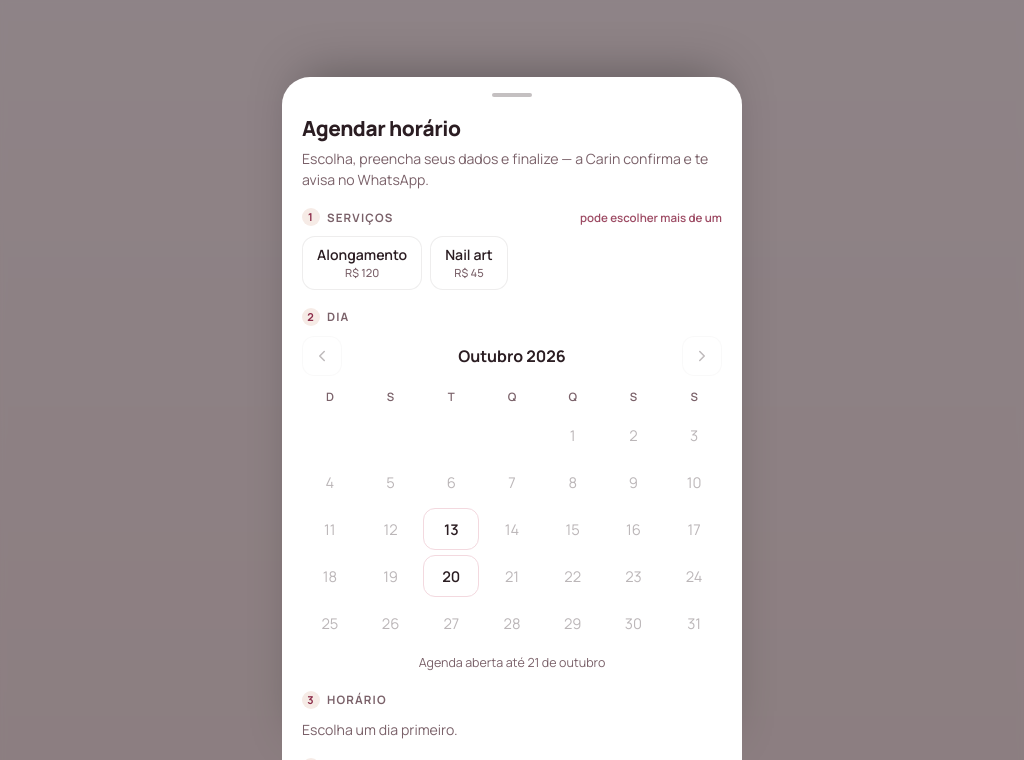
Test: Sheet do site: dias e horários oferecidos › horário ocupado ou bloqueado pela Carin não aparece para a cliente
Click the button "13" at (451, 529), box [423, 508, 479, 550]
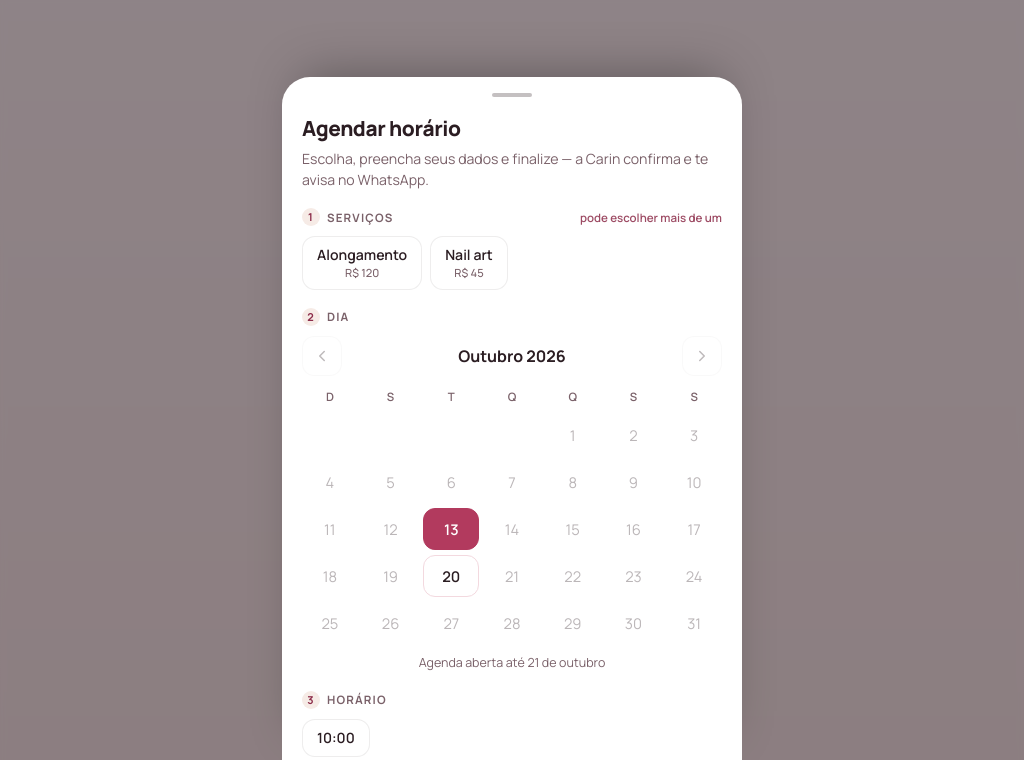
Now the button "10:00" is shown, box [302, 719, 370, 757]
